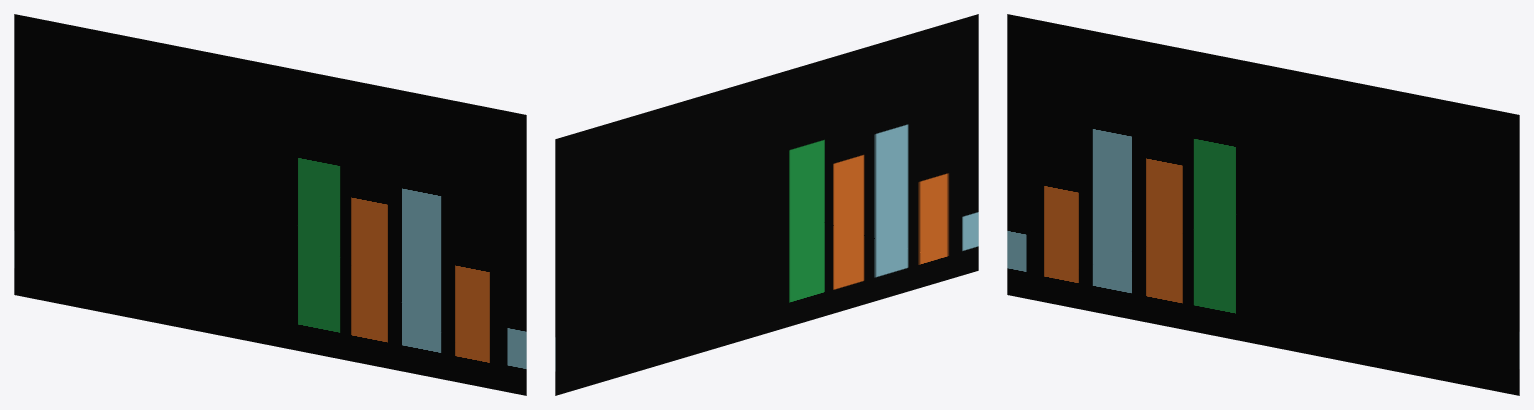
File: rightScreen.glb
3 renders of one model, left to right at view 1: azimuth 90°, elevation 25°; view 2: azimuth 150°, elevation 25°; view 3: azimuth 270°, elevation 25°, orthographic. The views are drawn at different scales.
Visible parts, largest first — view 1: CodePlane; view 2: CodePlane; view 3: CodePlane.
Part boxes in pixels (<box>): CodePlane: <box>14,14,526,395</box>; CodePlane: <box>555,14,978,395</box>; CodePlane: <box>1007,14,1519,395</box>.
Size of the model in its own units: 1.14 by 1.48 by 2.44.
1 material, 1 textured.
